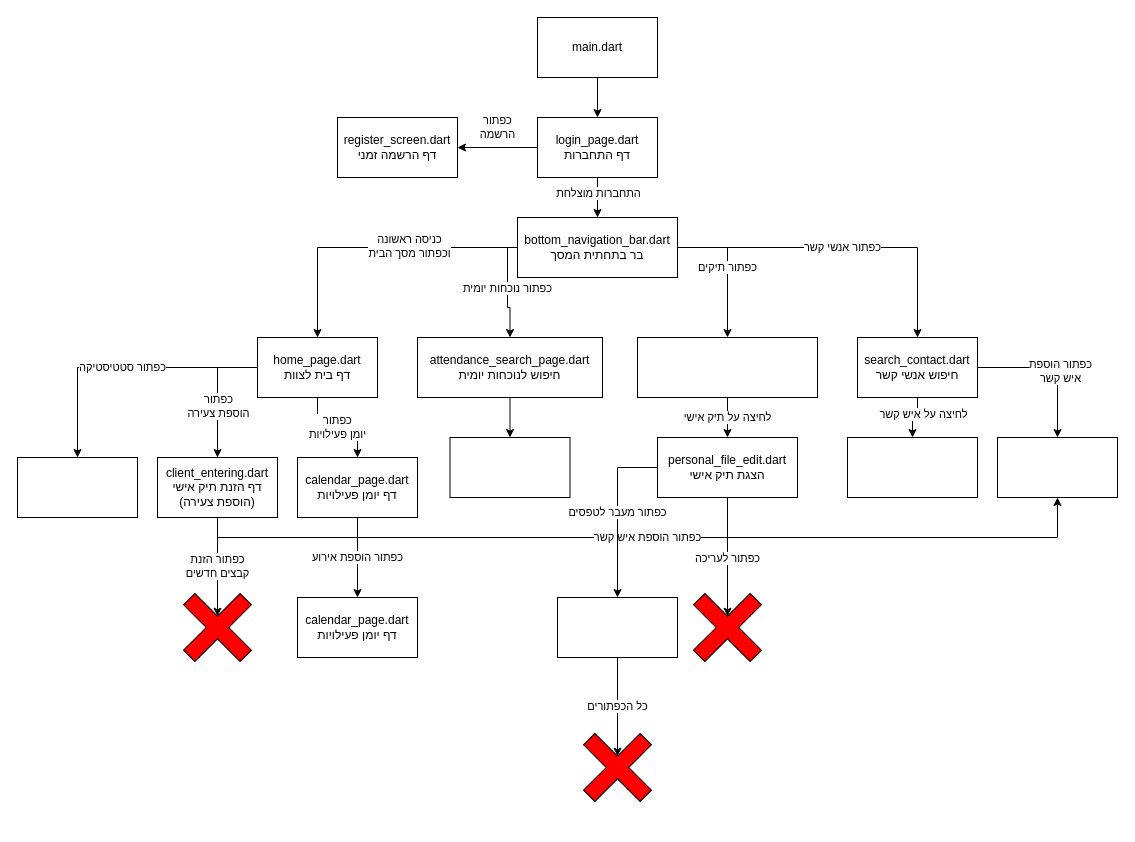
Image size: 1135x842. Some labels were removed from this diagram. Here are the shapes that lost their labels. From the top down, the centre of each, then its label:
At [727,367]: "personal_file_search_page.dart חיפוש תיק אישי".
At [77,487]: "statistics.dart דף סטטיסטיקה".
At [509,467]: "attendace_page.dart הזנת נוכחות".
At [912,467]: "edit_contact.dart הצגת ועריכת איש קשר".
At [1057,467]: "add_contact.dart הוספת איש קשר".
At [617,627]: "forms_buttons.dart דף ניתוב לטפסים".
